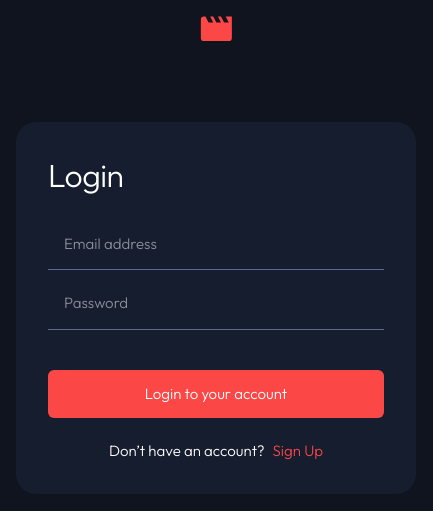
Scenario: LoginPage › requires both fields
What coordinates should you click on to do the following:
click the button "Login to your account"
I would click on:
 (216, 394)
Its box is [48, 370, 384, 418].
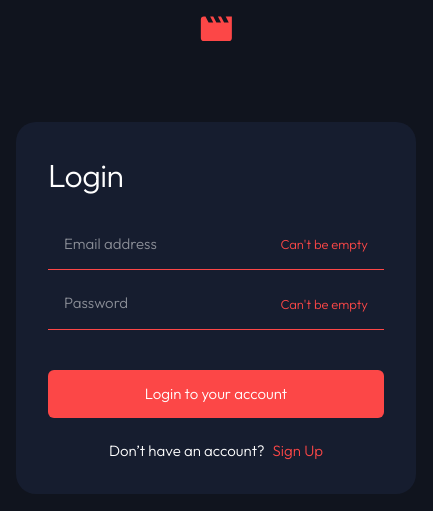
Check: the text "Can't be empty" is shown 2 times, box [280, 236, 368, 252]; [280, 296, 368, 312]
